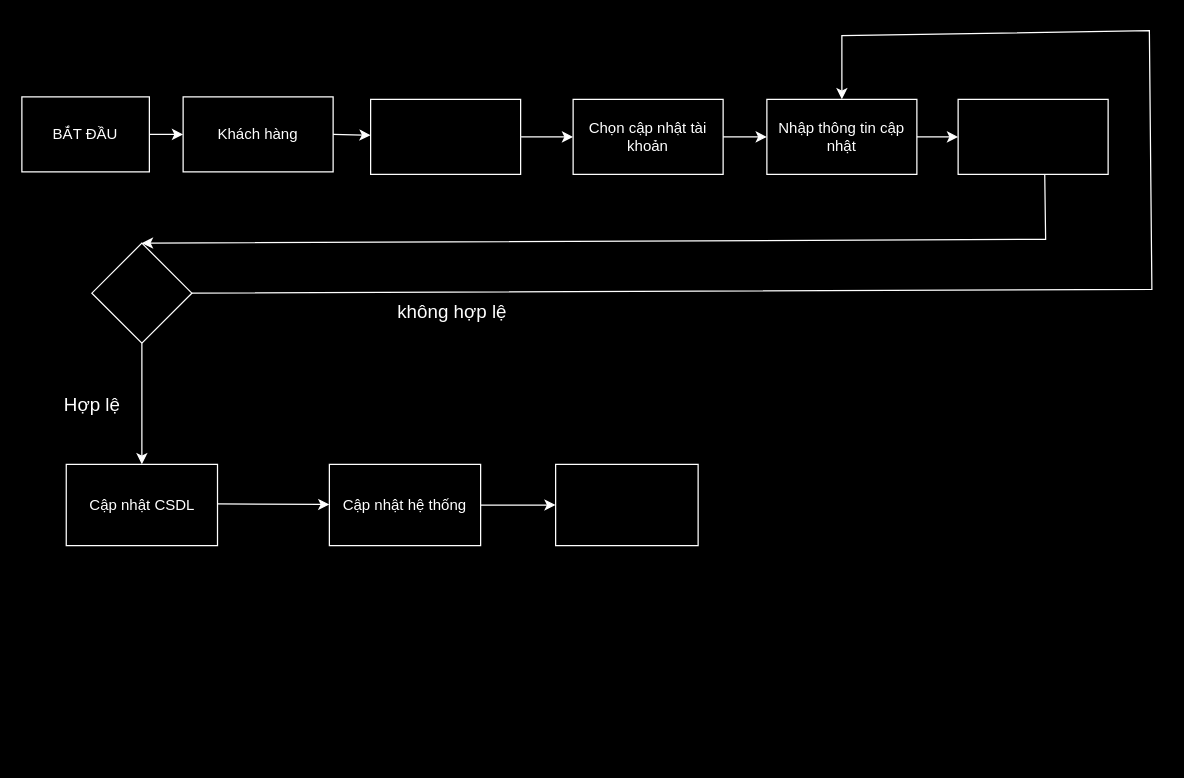
This 1184x778 diagram has some shape labels left out. The shapes that lost their labels are listed below. From the top down, each one's box as (x1, y1, x2, y2) in pixels, then its label:
(369, 98, 521, 174): Cập nhật tài khoản
(957, 98, 1108, 174): Kiểm tra hợp lệ
(554, 463, 698, 546): KẾT THÚC
